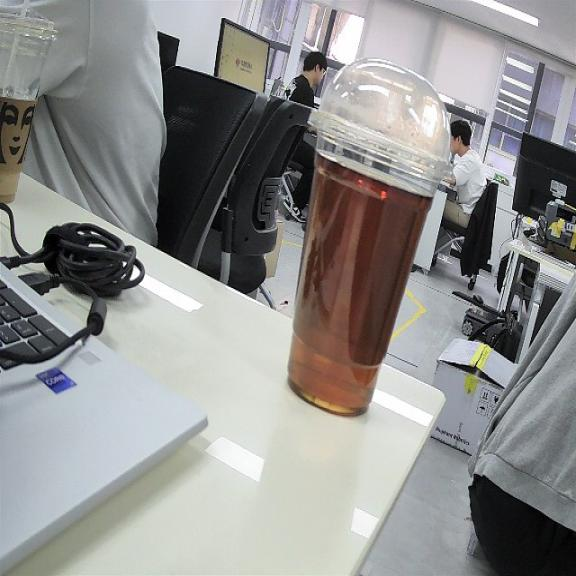Plastik: (288, 60, 449, 415)
